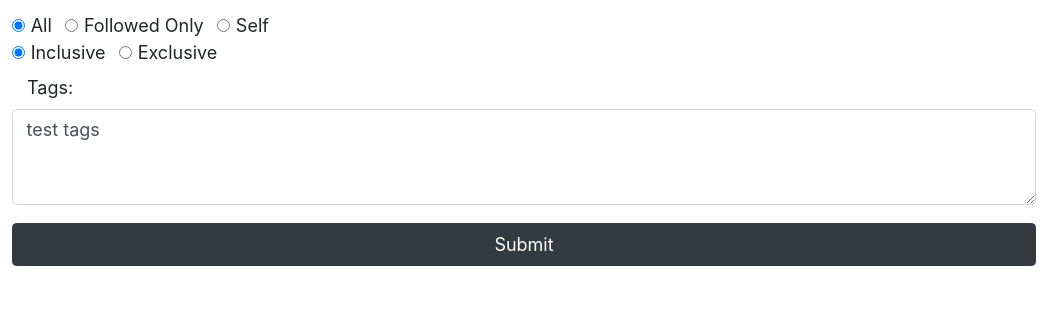
component › error with tags (required)
The image size is (1048, 323).
Clear the text box labelled "Tags:". click: (524, 157)
box: [12,108,1036,205]
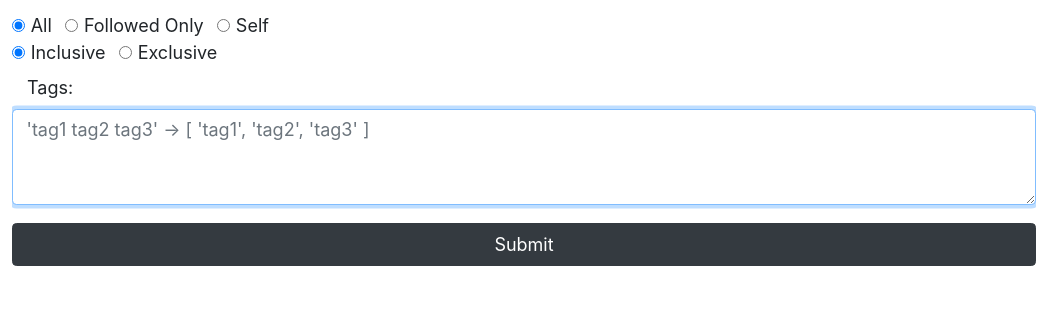
Click the button "Submit". click: (524, 244)
box: [12,223,1036,266]
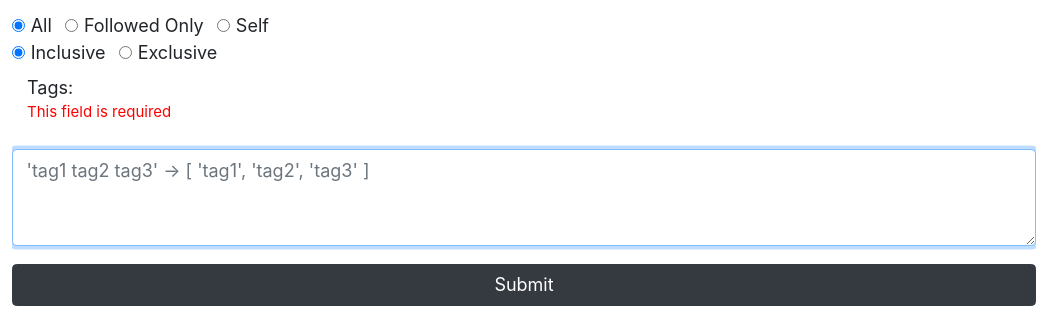
expect the text "This field is required" is shown: met, box [27,102,171,121]
